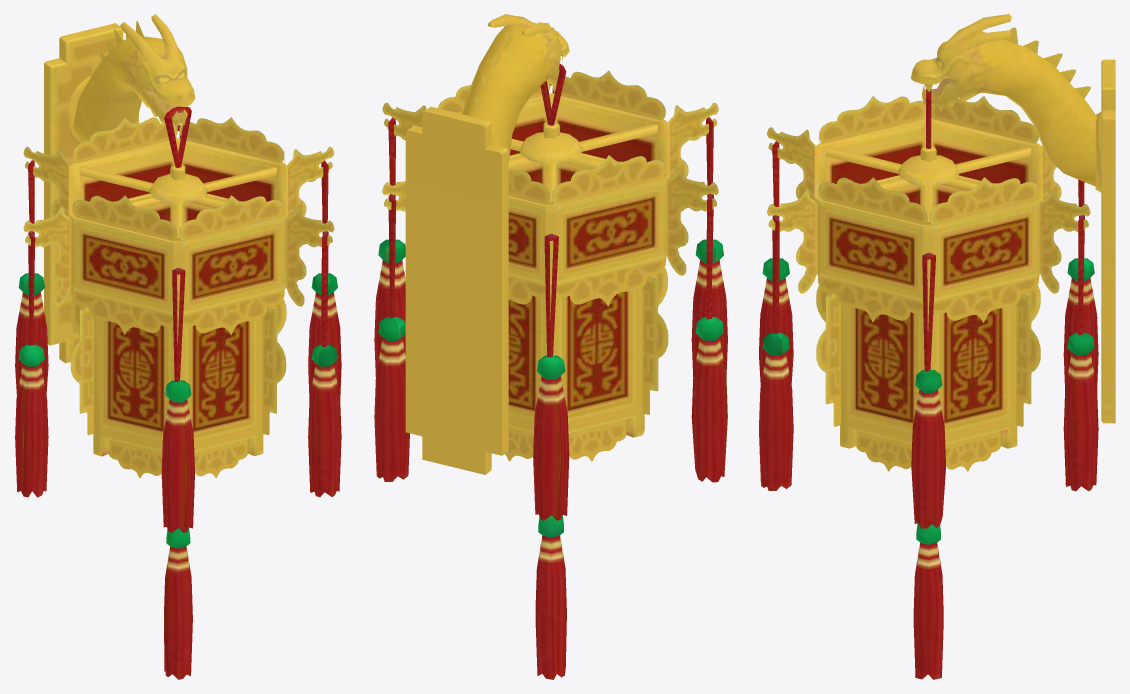
3 renders of one model, left to right at view 1: azimuth 30°, elevation 25°; view 2: azimuth 150°, elevation 25°; view 3: azimuth 270°, elevation 25°, orthographic. The views are drawn at different scales.
Size of the model in its own units: 7.02 by 12.77 by 6.35.
1 material, 1 textured.
